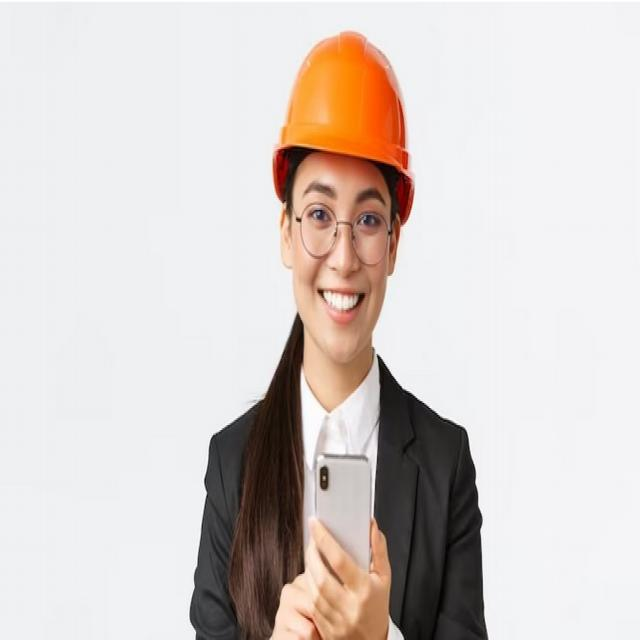helmet: (267, 17, 418, 244)
